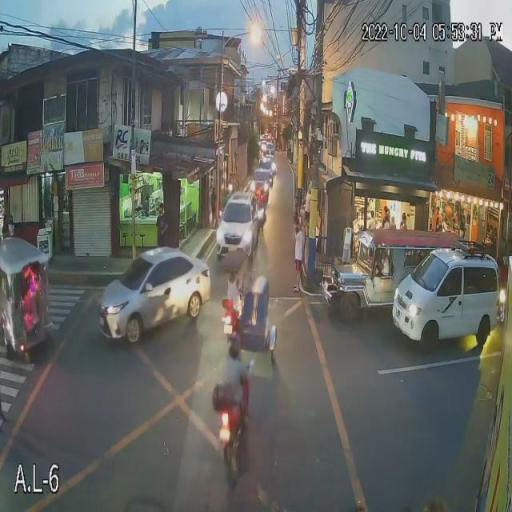helmet: (224, 335, 244, 362)
motorcycle: (220, 402, 248, 472)
rider: (222, 337, 247, 407)
